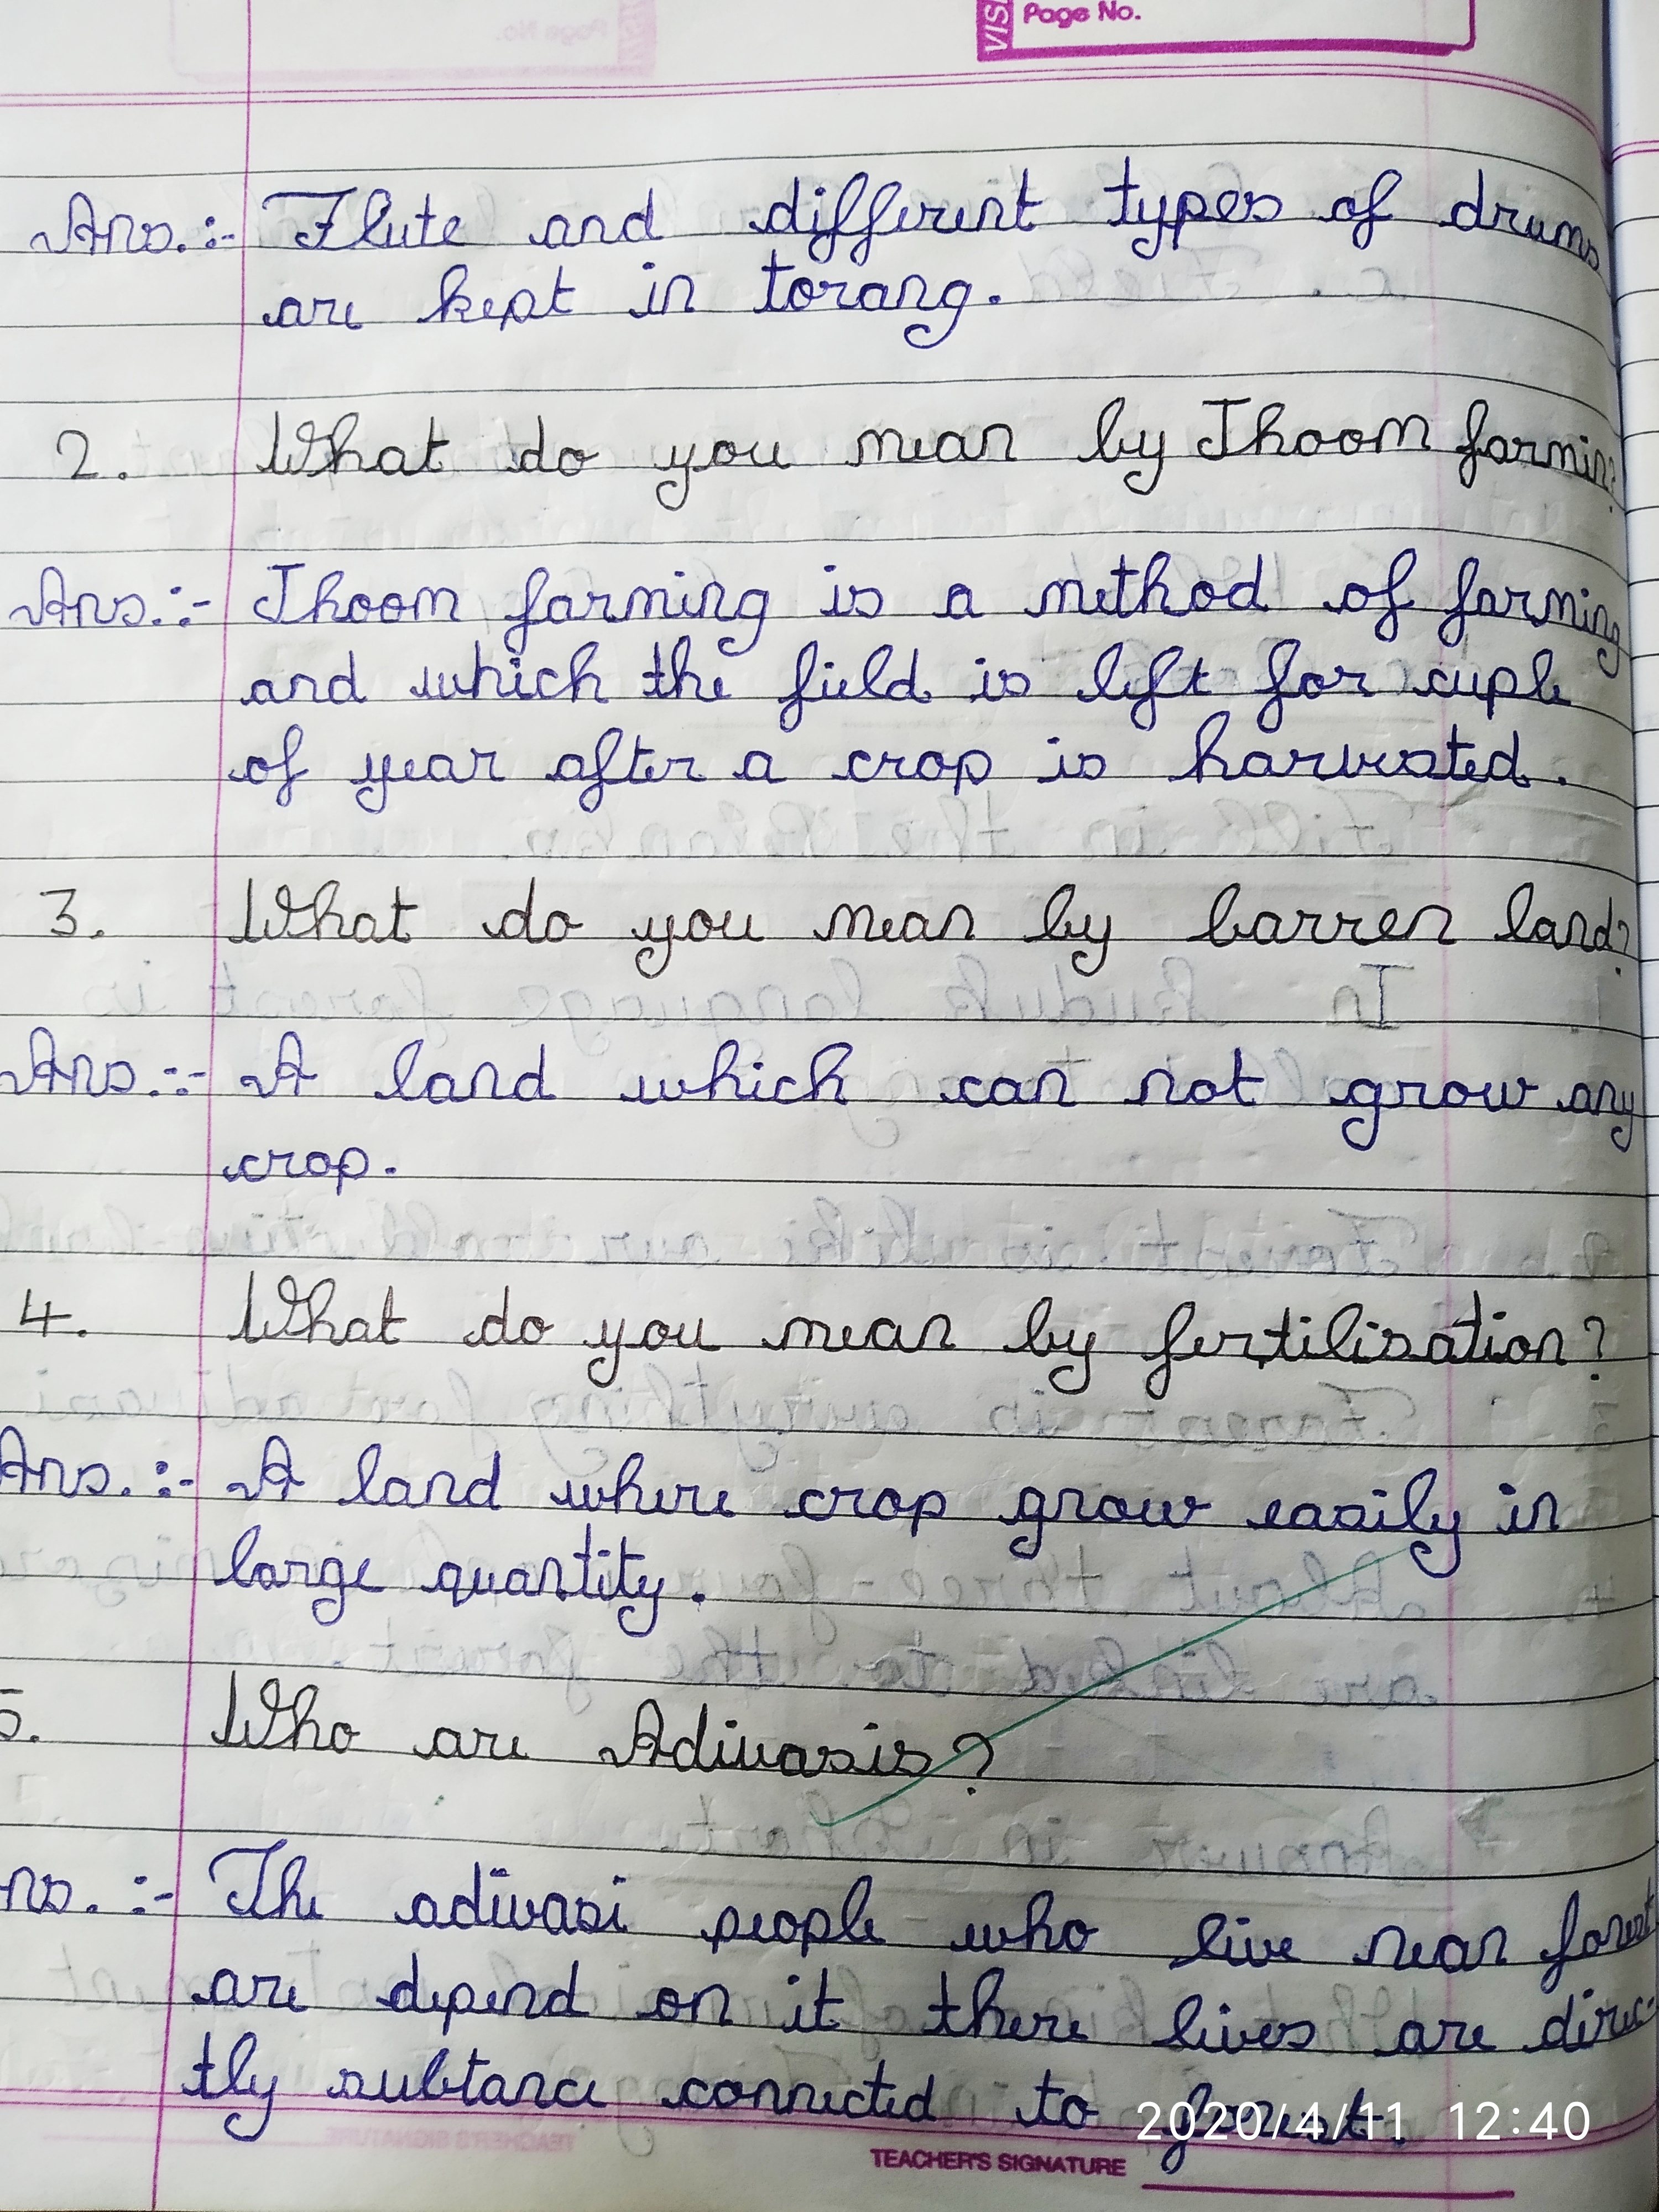A: (626, 1696, 669, 1768), (253, 1435, 296, 1501), (24, 1026, 61, 1092), (270, 1031, 305, 1096), (37, 564, 70, 629)
F: (260, 186, 359, 251)
J: (1195, 395, 1253, 462), (253, 563, 307, 625)
T: (207, 1838, 289, 1921)
W: (221, 1669, 282, 1750), (240, 1268, 301, 1345), (242, 876, 300, 942), (267, 409, 319, 477)
a: (61, 190, 99, 256), (1429, 1933, 1473, 1973), (941, 582, 981, 622), (863, 1315, 904, 1353), (927, 430, 972, 465), (739, 745, 777, 786), (207, 1966, 244, 2006), (423, 751, 465, 786), (540, 1890, 572, 1935), (420, 1071, 460, 1106), (408, 1892, 443, 1930), (371, 444, 411, 477), (1420, 1332, 1460, 1366), (1248, 911, 1284, 946), (775, 1742, 810, 1778), (1394, 2019, 1431, 2054), (378, 1475, 416, 1508), (986, 1075, 1026, 1106), (430, 1726, 467, 1759), (540, 212, 572, 251), (1286, 1501, 1324, 1533), (897, 911, 934, 942), (1239, 749, 1277, 779), (476, 2073, 509, 2106), (854, 282, 890, 312), (554, 752, 591, 782), (274, 296, 307, 327), (1481, 434, 1513, 467), (544, 594, 577, 625), (350, 913, 383, 944), (1567, 1080, 1595, 1115), (1473, 587, 1502, 618), (1530, 914, 1560, 946), (343, 1315, 375, 1345), (249, 1561, 281, 1590), (500, 1568, 532, 1597), (247, 678, 281, 705)
b: (1091, 394, 1133, 465), (1206, 881, 1244, 948), (1040, 881, 1079, 942), (1023, 1296, 1058, 1357), (418, 2047, 453, 2099)
c: (845, 747, 877, 786), (532, 665, 565, 700), (676, 2076, 709, 2109), (796, 1487, 828, 1522), (551, 2076, 582, 2109), (957, 1075, 986, 1108), (770, 1075, 802, 1104), (1425, 665, 1453, 698), (840, 2088, 868, 2120), (235, 1153, 263, 1183)
d: (497, 876, 540, 942), (669, 1702, 709, 1773), (1223, 552, 1269, 611), (763, 176, 807, 237), (1481, 730, 1527, 787), (509, 1042, 551, 1103), (448, 1860, 484, 1930), (617, 186, 662, 242), (884, 646, 927, 704), (1450, 167, 1488, 232), (462, 1449, 502, 1510), (387, 1951, 425, 2013), (477, 1284, 514, 1348), (514, 413, 551, 475), (324, 650, 364, 705), (544, 1959, 582, 2017), (1539, 1993, 1575, 2052), (901, 2073, 938, 2123), (1591, 895, 1615, 953)
e: (1211, 188, 1241, 225), (1375, 907, 1405, 941), (439, 214, 465, 249), (340, 300, 362, 331), (399, 756, 422, 784), (1276, 1937, 1298, 1963), (477, 296, 497, 320), (878, 918, 897, 942)
f: (807, 171, 870, 265), (1145, 1299, 1197, 1402), (1129, 644, 1187, 732), (847, 179, 903, 268), (1539, 1886, 1582, 1996), (1255, 637, 1302, 735), (504, 564, 551, 657), (1373, 547, 1419, 643), (1351, 169, 1403, 251), (1436, 556, 1481, 648), (579, 726, 626, 815), (779, 639, 819, 733), (1457, 397, 1490, 491), (274, 723, 305, 808)
g: (903, 279, 974, 350), (716, 589, 770, 658), (1340, 1076, 1384, 1151), (1007, 1484, 1047, 1559), (310, 1555, 347, 1627)
h: (1192, 709, 1234, 780), (809, 1042, 854, 1106), (969, 1965, 1007, 2040), (326, 411, 368, 475), (706, 1038, 748, 1101), (1138, 549, 1176, 617), (566, 639, 606, 704), (307, 880, 349, 941), (669, 634, 706, 702), (469, 637, 509, 698), (305, 1277, 340, 1346), (291, 1683, 324, 1754), (1249, 402, 1291, 458), (612, 1451, 647, 1515), (1023, 1888, 1058, 1952), (277, 1855, 308, 1921), (312, 568, 347, 624)
i: (1495, 1482, 1527, 1533), (861, 1721, 889, 1777), (709, 1719, 739, 1770), (1220, 1916, 1249, 1966), (484, 1867, 509, 1928), (784, 1973, 809, 2033), (1044, 733, 1075, 779), (1349, 1320, 1380, 1366), (638, 260, 662, 317), (1574, 1987, 1596, 2048), (605, 1874, 627, 1933), (1481, 1310, 1506, 1364), (805, 185, 830, 237), (821, 564, 845, 615), (505, 657, 532, 702), (673, 570, 695, 620), (592, 1547, 613, 1601), (1295, 1315, 1319, 1360), (1370, 1487, 1394, 1531), (972, 657, 995, 700), (1577, 434, 1595, 481), (1577, 587, 1595, 634), (816, 662, 836, 700), (749, 1059, 767, 1101)
k: (432, 263, 474, 324)
l: (1401, 1467, 1439, 1534), (1324, 1301, 1364, 1366), (838, 1872, 873, 1944), (228, 1522, 263, 1588), (227, 2031, 260, 2097), (390, 1038, 423, 1101), (859, 643, 894, 700), (1091, 641, 1124, 700), (361, 188, 392, 247), (1506, 881, 1535, 944), (1171, 1993, 1202, 2050), (357, 1442, 383, 1507), (1528, 646, 1554, 705)
m: (1370, 413, 1434, 453), (824, 902, 878, 942), (777, 1315, 835, 1352), (411, 585, 464, 624), (1037, 578, 1091, 615), (852, 427, 908, 462), (620, 585, 674, 618), (1542, 585, 1577, 629), (1544, 439, 1579, 477), (1553, 219, 1584, 260)
n: (1364, 1921, 1406, 1970), (687, 1982, 732, 2026), (1406, 904, 1455, 942), (976, 421, 1019, 463), (1032, 1066, 1073, 1108), (3, 1864, 38, 1912), (1525, 1489, 1561, 1533), (892, 273, 932, 312), (467, 1061, 505, 1101), (500, 1980, 538, 2020), (1136, 1066, 1178, 1103), (1532, 1325, 1568, 1367), (535, 1555, 568, 1601), (511, 2069, 549, 2107), (660, 273, 697, 314), (913, 1313, 953, 1350), (103, 212, 138, 254), (70, 592, 108, 629), (939, 902, 976, 941), (35, 1456, 70, 1496), (972, 195, 1009, 232), (751, 2076, 784, 2116), (697, 580, 728, 622), (68, 1054, 98, 1097), (422, 1470, 457, 1507), (784, 2080, 817, 2116), (575, 214, 612, 246), (1565, 909, 1591, 951), (284, 672, 321, 702), (1596, 1078, 1619, 1116), (1591, 603, 1610, 641)
o: (1056, 2094, 1093, 2130), (551, 446, 592, 477), (781, 275, 816, 312), (1337, 578, 1371, 613), (870, 1487, 904, 1522), (239, 754, 275, 787), (1058, 1918, 1091, 1954), (711, 2078, 748, 2111), (1290, 428, 1330, 458), (542, 909, 575, 944), (683, 907, 716, 942), (1093, 1493, 1131, 1522), (1185, 578, 1218, 611), (640, 1318, 673, 1352), (708, 437, 742, 469), (911, 749, 946, 780), (652, 1986, 683, 2020), (770, 1909, 800, 1946), (1502, 1332, 1534, 1366), (301, 1150, 335, 1179), (1333, 428, 1368, 456), (1185, 1078, 1220, 1106), (518, 1315, 549, 1345), (347, 590, 375, 624), (378, 590, 406, 624), (1438, 1080, 1471, 1108), (328, 1721, 356, 1754), (1297, 671, 1326, 700), (1328, 195, 1358, 223), (1581, 1928, 1605, 1958)
p: (439, 1980, 477, 2036), (951, 747, 993, 798), (908, 1489, 948, 1540), (335, 1146, 371, 1197), (497, 287, 537, 333), (800, 1905, 833, 1959), (1486, 665, 1518, 721), (709, 1904, 741, 1956)
q: (436, 1561, 465, 1609)
qqbslash: (1331, 2102, 1349, 2141), (1270, 2102, 1288, 2141)
qqcolon: (169, 585, 192, 629), (162, 1066, 190, 1097), (153, 1460, 173, 1500), (131, 1874, 148, 1916), (202, 214, 220, 251), (1511, 2102, 1521, 2141)
qqfour: (17, 1287, 63, 1338), (1528, 2101, 1560, 2141), (1295, 2101, 1324, 2141)
qqfstop: (690, 1590, 708, 1606), (174, 242, 190, 256), (986, 294, 1004, 307), (383, 1165, 397, 1179), (118, 1484, 132, 1498), (115, 470, 131, 482), (1556, 775, 1568, 787), (150, 617, 164, 627), (77, 1327, 87, 1341), (85, 1904, 99, 1914), (94, 928, 106, 939), (148, 1089, 159, 1101), (30, 1735, 40, 1743)
qqhyphen: (190, 599, 214, 610), (152, 1892, 174, 1902), (220, 233, 237, 242), (186, 1071, 207, 1078), (178, 1479, 195, 1486)
qqone: (1385, 2101, 1406, 2142), (1358, 2101, 1377, 2142), (1450, 2101, 1467, 2142)
qqquestion: (950, 1730, 997, 1797), (1582, 1313, 1607, 1383), (1615, 920, 1631, 977)
qqthree: (38, 888, 78, 937)
qqtwo: (52, 428, 101, 482), (1474, 2101, 1504, 2142), (1202, 2101, 1229, 2141), (1136, 2101, 1162, 2141)
qqzero: (1561, 2101, 1591, 2142), (1236, 2101, 1262, 2142), (1169, 2101, 1195, 2142)
r: (464, 745, 509, 782), (1331, 664, 1377, 698), (1284, 747, 1328, 782), (1392, 1078, 1434, 1109), (1213, 1329, 1255, 1360), (580, 590, 617, 625), (1290, 909, 1324, 946), (1500, 585, 1534, 624), (913, 200, 948, 235), (671, 1482, 706, 1517), (469, 1726, 504, 1761), (247, 1973, 282, 2008), (1434, 2017, 1469, 2052), (1331, 911, 1368, 944), (828, 1486, 864, 1519), (1030, 2010, 1065, 2043), (875, 749, 911, 780), (660, 754, 701, 782), (816, 279, 850, 310), (307, 296, 342, 327), (1511, 434, 1542, 469), (281, 1557, 314, 1588), (1490, 202, 1520, 235), (265, 1148, 298, 1177), (1593, 2003, 1621, 2038)
s: (889, 1738, 932, 1775), (845, 582, 885, 620), (1241, 188, 1284, 223), (38, 1872, 73, 1914), (138, 219, 176, 256), (73, 1461, 112, 1498), (108, 592, 148, 627), (1394, 745, 1436, 779), (572, 1895, 605, 1935), (814, 1743, 857, 1773), (1276, 2019, 1316, 2050), (101, 1059, 136, 1094), (1377, 1327, 1413, 1360), (1328, 1503, 1368, 1531), (997, 667, 1033, 697), (1073, 751, 1108, 780), (336, 2066, 366, 2101), (1584, 239, 1601, 270)
t: (927, 1970, 960, 2038), (1460, 1289, 1488, 1364), (190, 2031, 220, 2101), (1011, 167, 1039, 233), (1108, 554, 1136, 620), (807, 1966, 835, 2031), (573, 1521, 596, 1599), (1441, 721, 1469, 782), (1115, 153, 1138, 225), (610, 1533, 634, 1599), (1270, 1305, 1298, 1362), (1032, 2067, 1058, 2127), (643, 641, 669, 698), (385, 885, 410, 944), (415, 192, 439, 249), (376, 1284, 399, 1345), (458, 2047, 481, 2107), (545, 263, 572, 315), (622, 732, 647, 787), (762, 249, 782, 314), (1227, 1047, 1249, 1106), (420, 415, 443, 472), (866, 2059, 885, 2118)
u: (734, 1733, 772, 1773), (744, 439, 789, 470), (375, 2067, 413, 2104), (718, 909, 758, 942), (673, 1317, 706, 1352), (1452, 669, 1483, 700), (467, 1566, 498, 1595), (383, 221, 413, 249), (1523, 214, 1547, 242)
v: (505, 1892, 537, 1932), (1241, 1935, 1276, 1970), (1337, 742, 1368, 779), (1220, 2024, 1248, 2055)
w: (1136, 1494, 1201, 1529), (1480, 1075, 1532, 1113), (636, 1073, 692, 1104), (420, 664, 465, 702), (962, 1921, 1012, 1952), (563, 1479, 605, 1512)
y: (223, 2073, 279, 2144), (1408, 1510, 1462, 1580), (615, 1573, 667, 1639), (1047, 1329, 1098, 1395), (1122, 428, 1168, 496), (586, 1317, 627, 1390), (655, 442, 699, 512), (1070, 913, 1114, 977), (634, 914, 676, 981), (352, 751, 394, 815), (1131, 193, 1169, 261), (1169, 190, 1208, 253), (1610, 1090, 1636, 1153)
